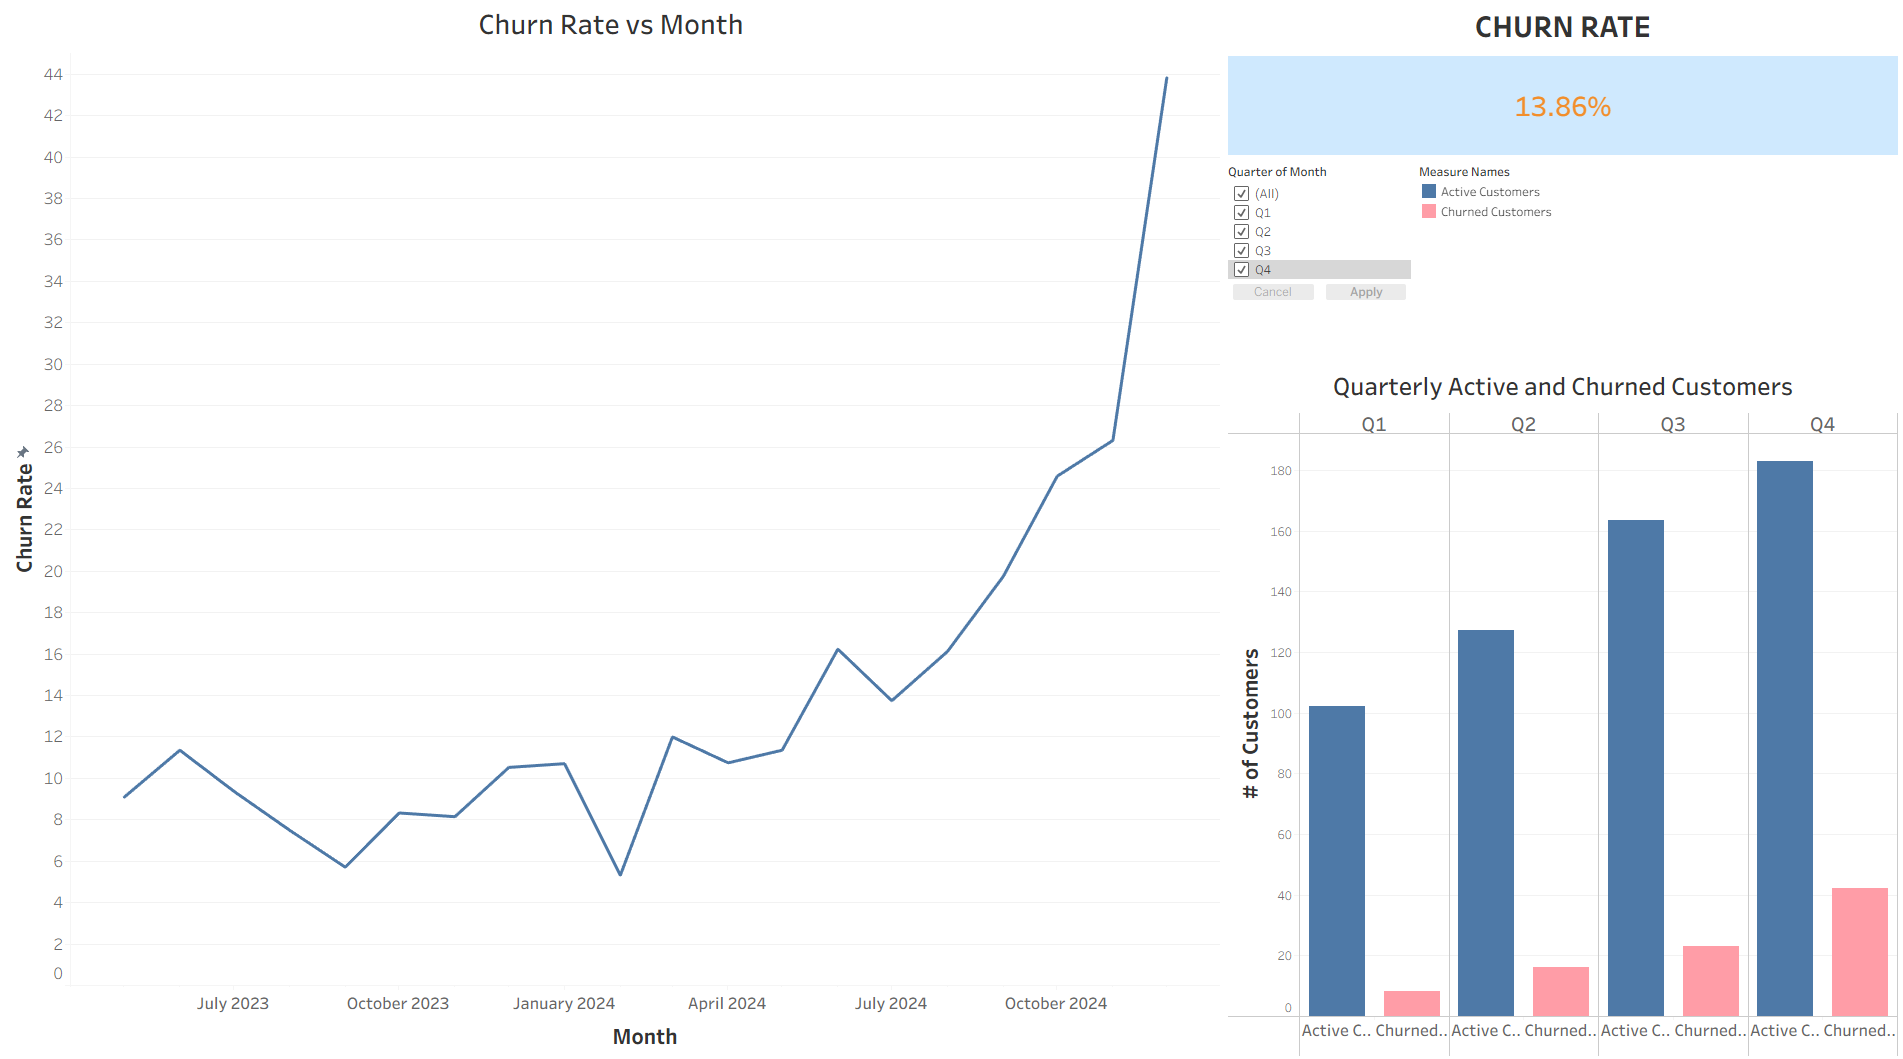

What the dashboard file says about the page in this screenshot:
{"tool":"tableau","page":{"name":"Dashboard 1","canvas":[1000,1000],"units":"permille","ordinal":0},"visuals":[{"type":"worksheet","title":" Monthly Churn","mark":"Automatic","rows":["CCR"],"cols":["month_start"],"box":[4.2,7.4,638.5,985.2]},{"type":"worksheet","title":"Chun Rate Card","mark":"Automatic","box":[642.7,7.4,353.1,150]},{"type":"filter","title":"Active and Churned Customers","param":"[federated.0agbc5e1c4e38x1eo18z70c066lk].[qr:month_start:ok]","box":[642.7,157.4,99.5,137]},{"type":"legend","title":"Active and Churned Customers","param":"[federated.0agbc5e1c4e38x1eo18z70c066lk].[:Measure Names]","box":[742.2,157.4,88.5,187]},{"type":"worksheet","title":"Active and Churned Customers","mark":"Bar","cols":["month_start"],"box":[642.7,344.4,353.1,648.1]}]}

Visuals, with their boxes on the dashboard's canvas, which has no fixed pixel size, in thousandths of its width and height (x1, y1, x2, y2). These are canvas units, not pixel positions in the 1903x1059 screenshot, which may show the page scaled, cropped or inside an application window:
" Monthly Churn" worksheet: pyautogui.locateOnScreen(4, 7, 643, 993)
"Chun Rate Card" worksheet: pyautogui.locateOnScreen(643, 7, 996, 157)
"Active and Churned Customers" filter: pyautogui.locateOnScreen(643, 157, 742, 294)
"Active and Churned Customers" legend: pyautogui.locateOnScreen(742, 157, 831, 344)
"Active and Churned Customers" worksheet (Bar marks): pyautogui.locateOnScreen(643, 344, 996, 992)
